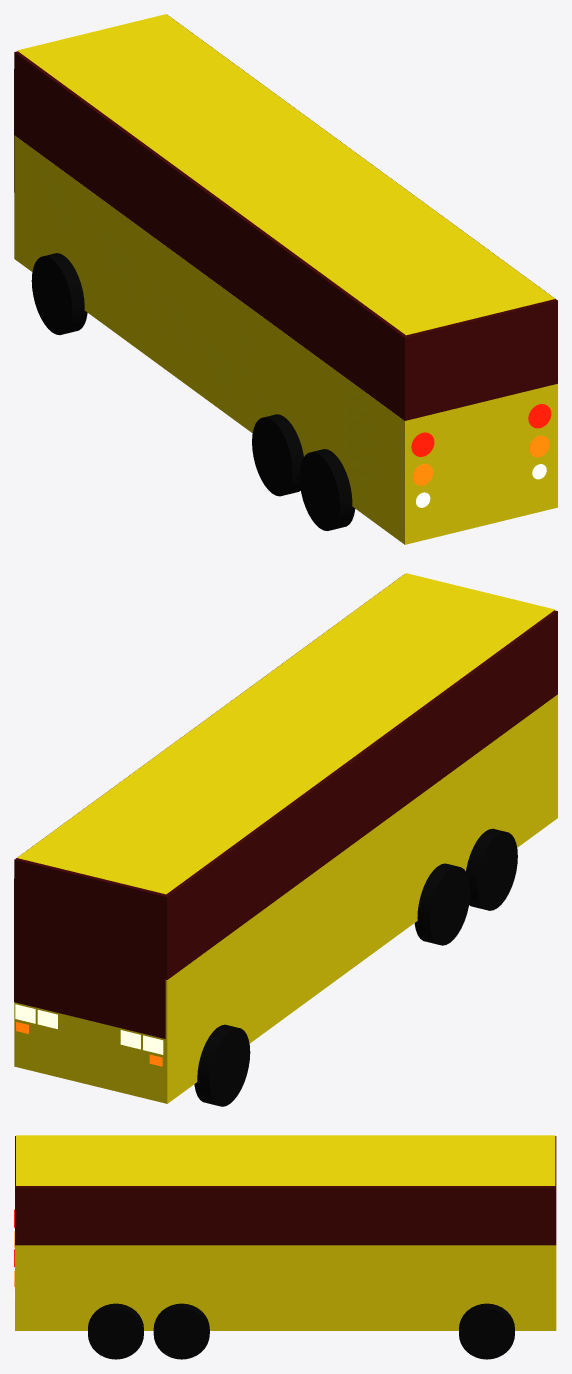
The model's file is new bus 2.fbx.
3 renders of one model, top to bottom at view 1: azimuth 30°, elevation 25°; view 2: azimuth 150°, elevation 25°; view 3: azimuth 270°, elevation 25°, orthographic. The views are drawn at different scales.
Parts seen in each view (by area): view 1: Cube.007, Plane.026, Cube.008, Circle.038, Circle.036, Circle.040; view 2: Plane.026, Cube.007, Cube.008, Plane.028, Circle.040, Circle.036, Circle.038; view 3: Cube.007, Cube.008, Plane.026, Circle.041, Circle.037, Circle.039.
Part boxes in pixels (x1,y1,x2,y2): Cube.007: [14, 135, 557, 544]; Plane.026: [17, 14, 554, 335]; Cube.008: [14, 16, 557, 420]; Circle.038: [299, 449, 355, 530]; Circle.036: [31, 253, 87, 335]; Circle.040: [252, 414, 303, 496]; Plane.026: [17, 573, 554, 894]; Cube.007: [14, 694, 557, 1103]; Cube.008: [14, 574, 557, 979]; Plane.028: [14, 878, 165, 1038]; Circle.040: [414, 863, 470, 945]; Circle.036: [194, 1024, 250, 1106]; Circle.038: [466, 828, 517, 910]; Cube.007: [15, 1245, 556, 1330]; Cube.008: [15, 1136, 556, 1245]; Plane.026: [16, 1135, 555, 1185]; Circle.041: [153, 1303, 209, 1359]; Circle.037: [459, 1303, 514, 1359]; Circle.039: [88, 1303, 143, 1359].
Bounding box in the file's own units: 314 × 403 × 1183.
